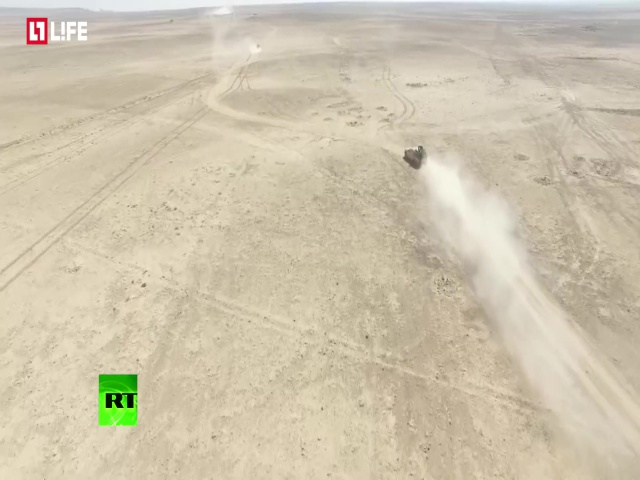vehicle: (403, 145, 429, 172)
